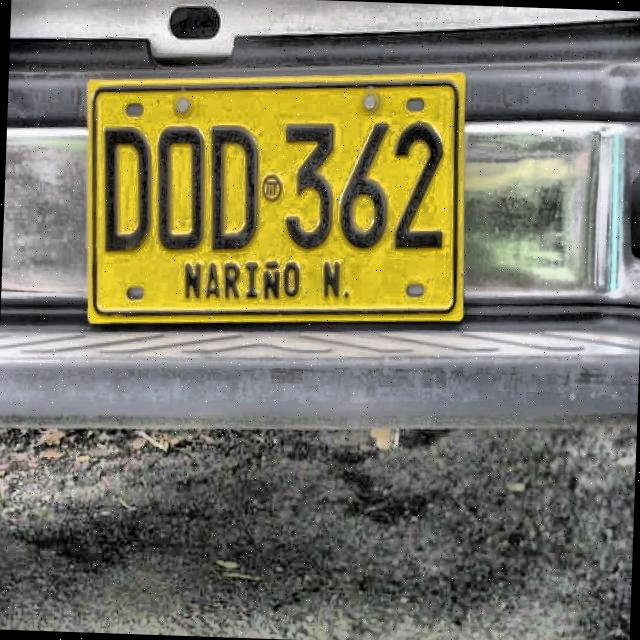plate: (92, 80, 462, 317)
